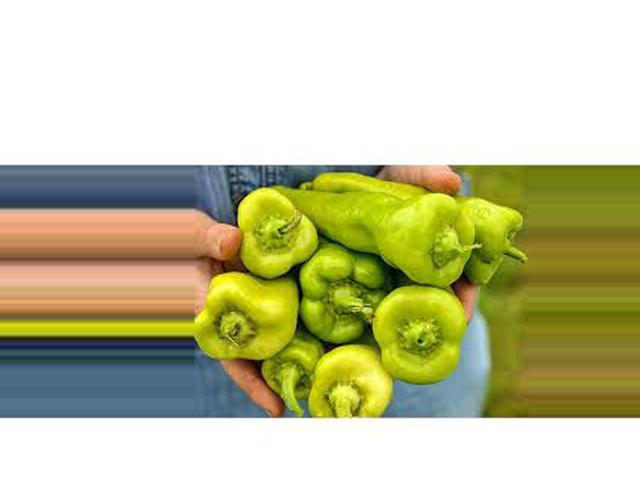bell_pepper: (196, 276, 302, 369)
